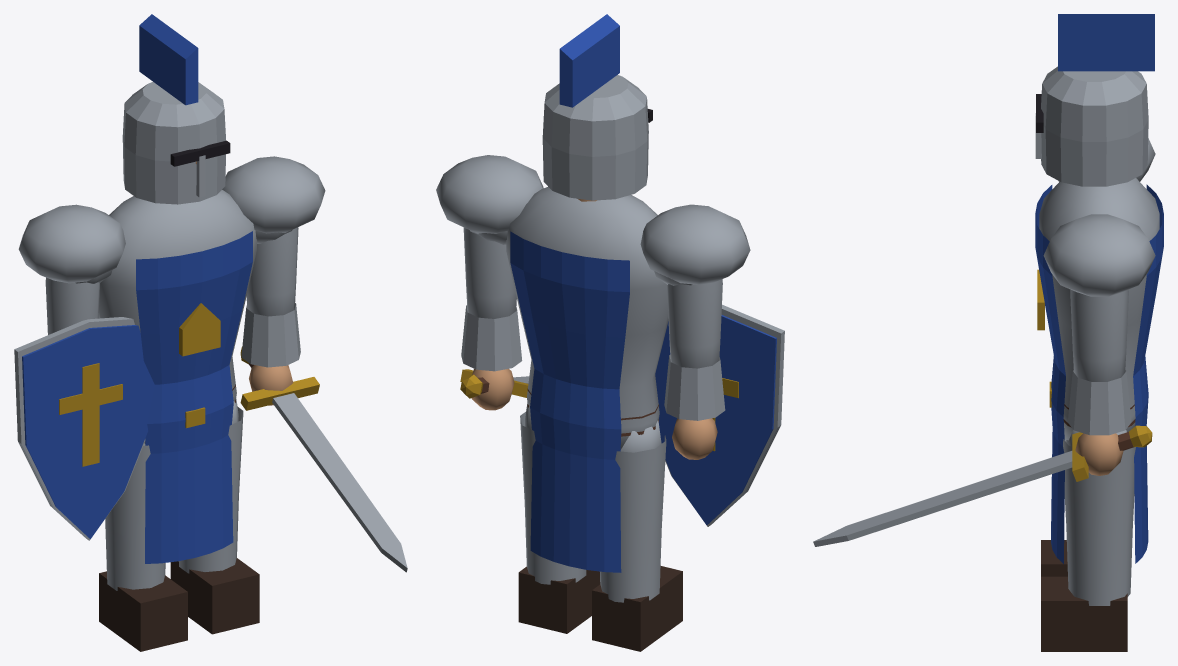
The model's file is human_knight.glb.
3 renders of one model, left to right at view 1: azimuth 30°, elevation 25°; view 2: azimuth 150°, elevation 25°; view 3: azimuth 270°, elevation 25°, orthographic. The views are drawn at different scales.
Parts seen in each view (by area): view 1: Body, ArmL, ArmR, Head, LegL, LegR; view 2: Body, ArmL, Head, ArmR, LegL, LegR; view 3: ArmR, Head, Body, LegR, LegL.
Boxes of the visible parts, box(x1,y1,x2,y2) form: Body: box(75, 190, 292, 563); ArmL: box(14, 204, 154, 540); ArmR: box(222, 156, 407, 572); Head: box(122, 14, 230, 204); LegL: box(99, 443, 187, 651); LegR: box(170, 398, 259, 634); Body: box(470, 187, 692, 572); ArmL: box(640, 204, 784, 526); Head: box(542, 14, 652, 200); ArmR: box(436, 155, 543, 410); LegL: box(592, 420, 682, 651); LegR: box(518, 402, 600, 633); ArmR: box(813, 214, 1155, 546); Head: box(1035, 14, 1154, 186); Body: box(1035, 178, 1163, 563); LegR: box(1041, 430, 1135, 651); LegL: box(1041, 540, 1067, 576).
Bounding box in the file's own units: 1.5 × 2.64 × 1.37.
